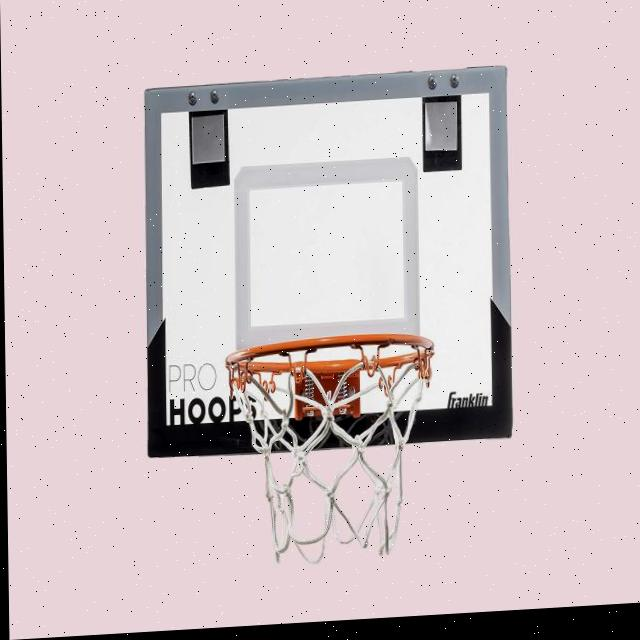hoop: (226, 330, 437, 568)
